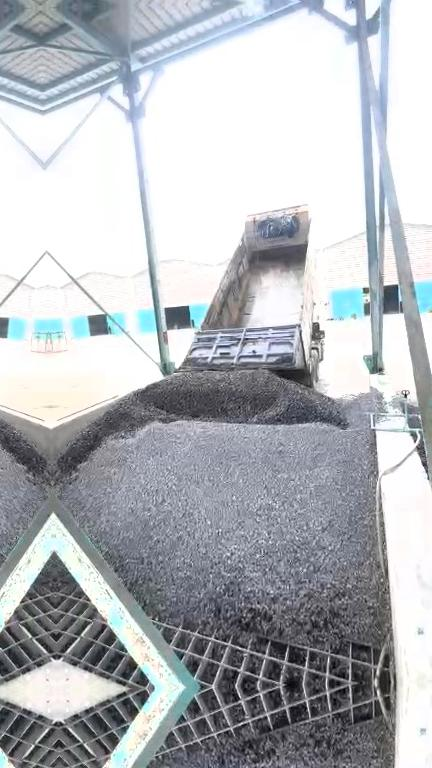gravel: (55, 385, 390, 646), (58, 370, 348, 480), (55, 552, 73, 590)
sand: (50, 381, 95, 420)
